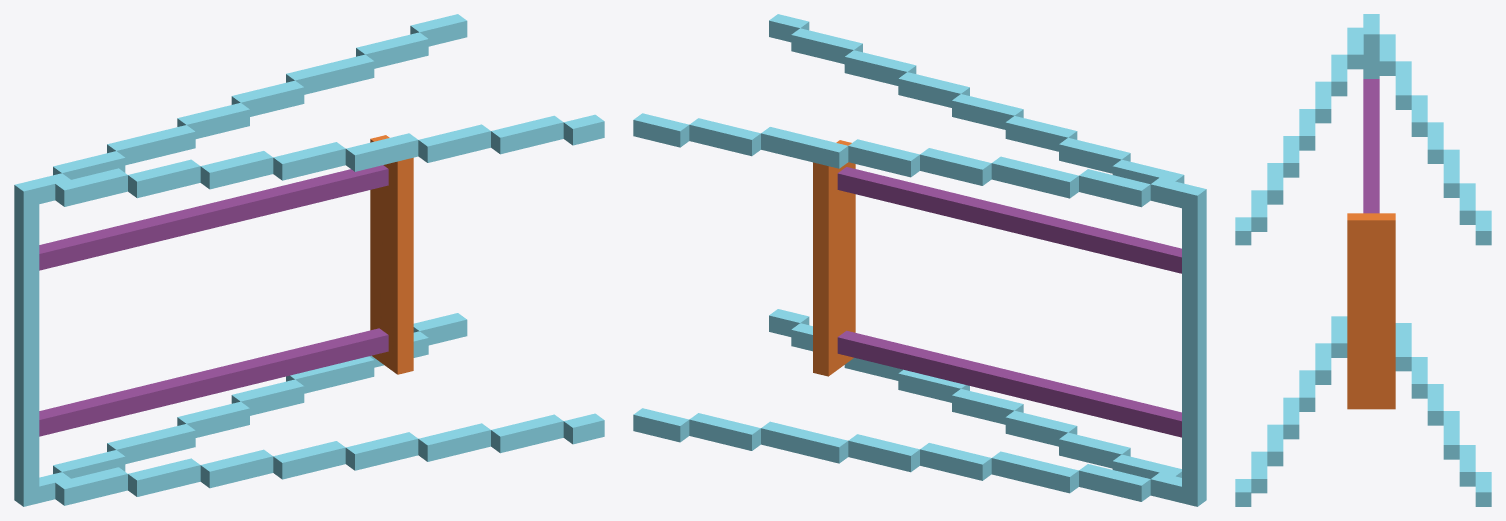
The model's file is outsideSwing.fbx.
The picture shows the model from 3 angles, left to right: view 1: azimuth 30°, elevation 25°; view 2: azimuth 150°, elevation 25°; view 3: azimuth 270°, elevation 25°; orthographic projection. The views are drawn at different scales.
Visible parts, largest first — view 1: default; view 2: default; view 3: default.
Part boxes in pixels (bbox=[...]): default: bbox=[14, 14, 604, 506]; default: bbox=[633, 14, 1206, 506]; default: bbox=[1235, 14, 1491, 506].
Bounding box in the file's own units: 64 × 38 × 32.
